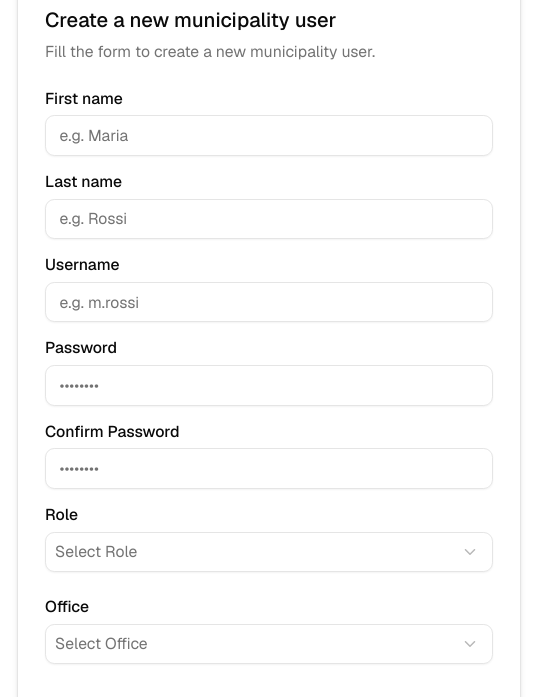
Scenario: MunicipalityUserForm › should show company selector for EXTERNAL_MAINTAINER_WITH_ACCESS role
Click the dropdown labelled "Select Role" at (96, 551), box [45, 532, 493, 572]
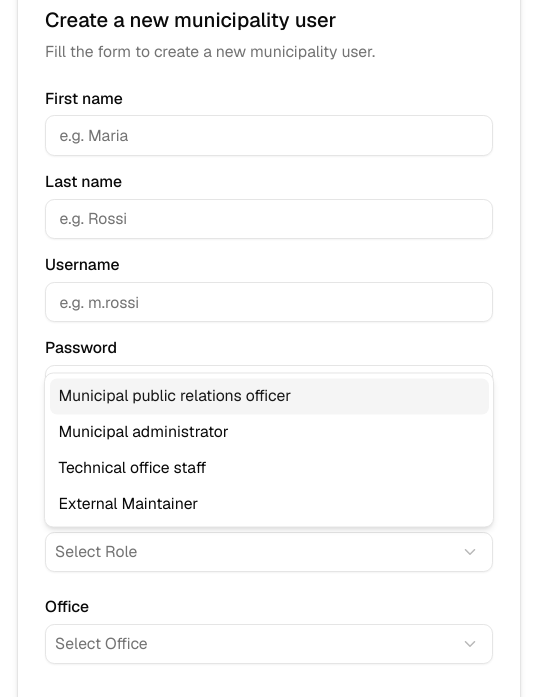
Click the option "External Maintainer" at (128, 503), box [58, 493, 198, 514]
(page scrolled)
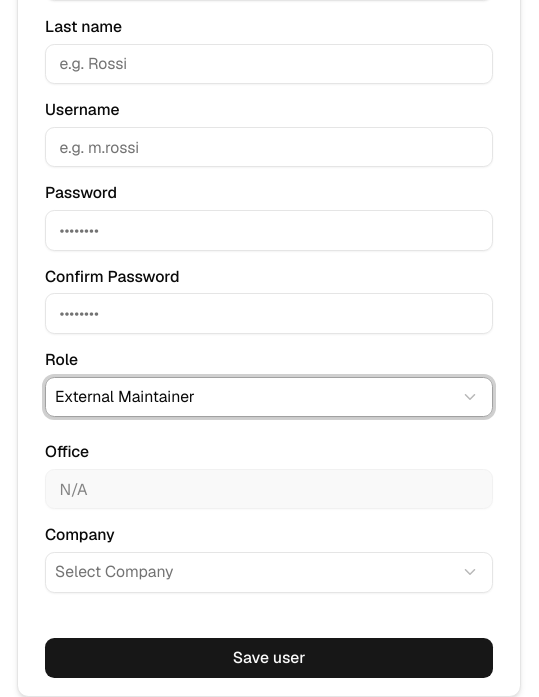
Expected: the dropdown labelled "Select Company" is shown, [45, 552, 493, 592]
